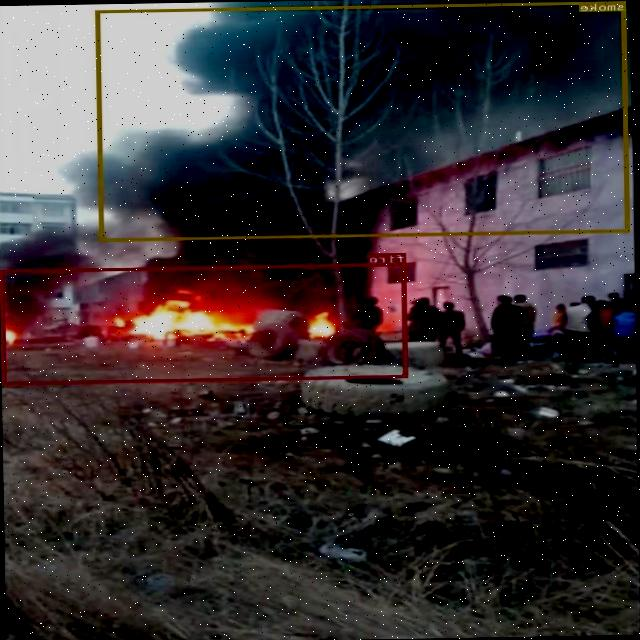fire: (1, 262, 408, 384)
smoke: (95, 0, 630, 240)
